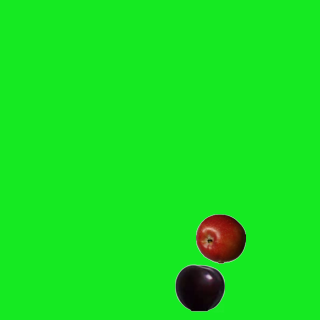Apple Braeburn: (195, 213, 245, 263)
Cherry Wax Black: (174, 262, 224, 312)
